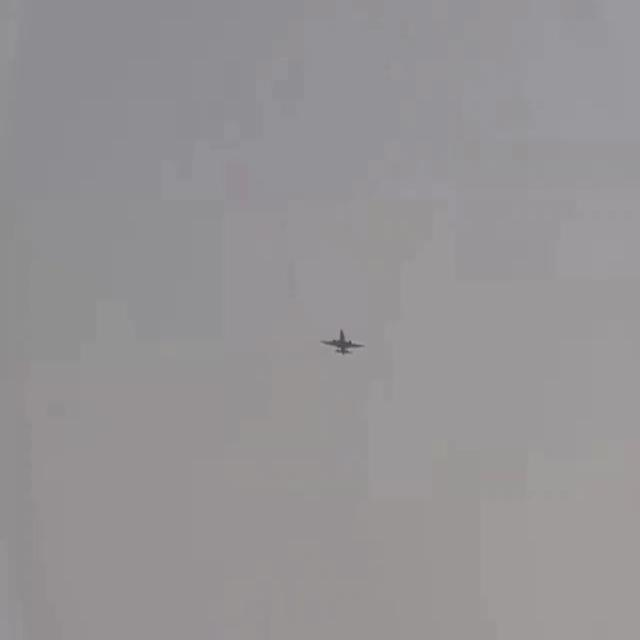AirPlane: (310, 307, 378, 369)
